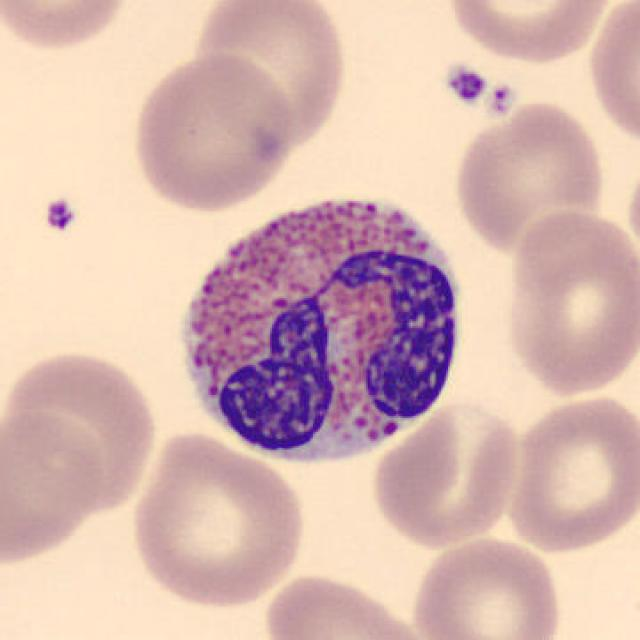Eosinophil: (162, 169, 478, 482)
Platelets: (441, 62, 489, 109), (37, 192, 80, 238), (483, 79, 518, 120)
RBC: (126, 428, 310, 610), (126, 50, 297, 214), (3, 344, 162, 520), (500, 205, 638, 402), (450, 97, 610, 256), (190, 0, 352, 152), (366, 395, 524, 550), (502, 390, 638, 557), (0, 406, 107, 570), (407, 532, 565, 640), (260, 569, 436, 640), (441, 0, 619, 65), (585, 0, 640, 153), (0, 0, 133, 54), (624, 145, 640, 282)
